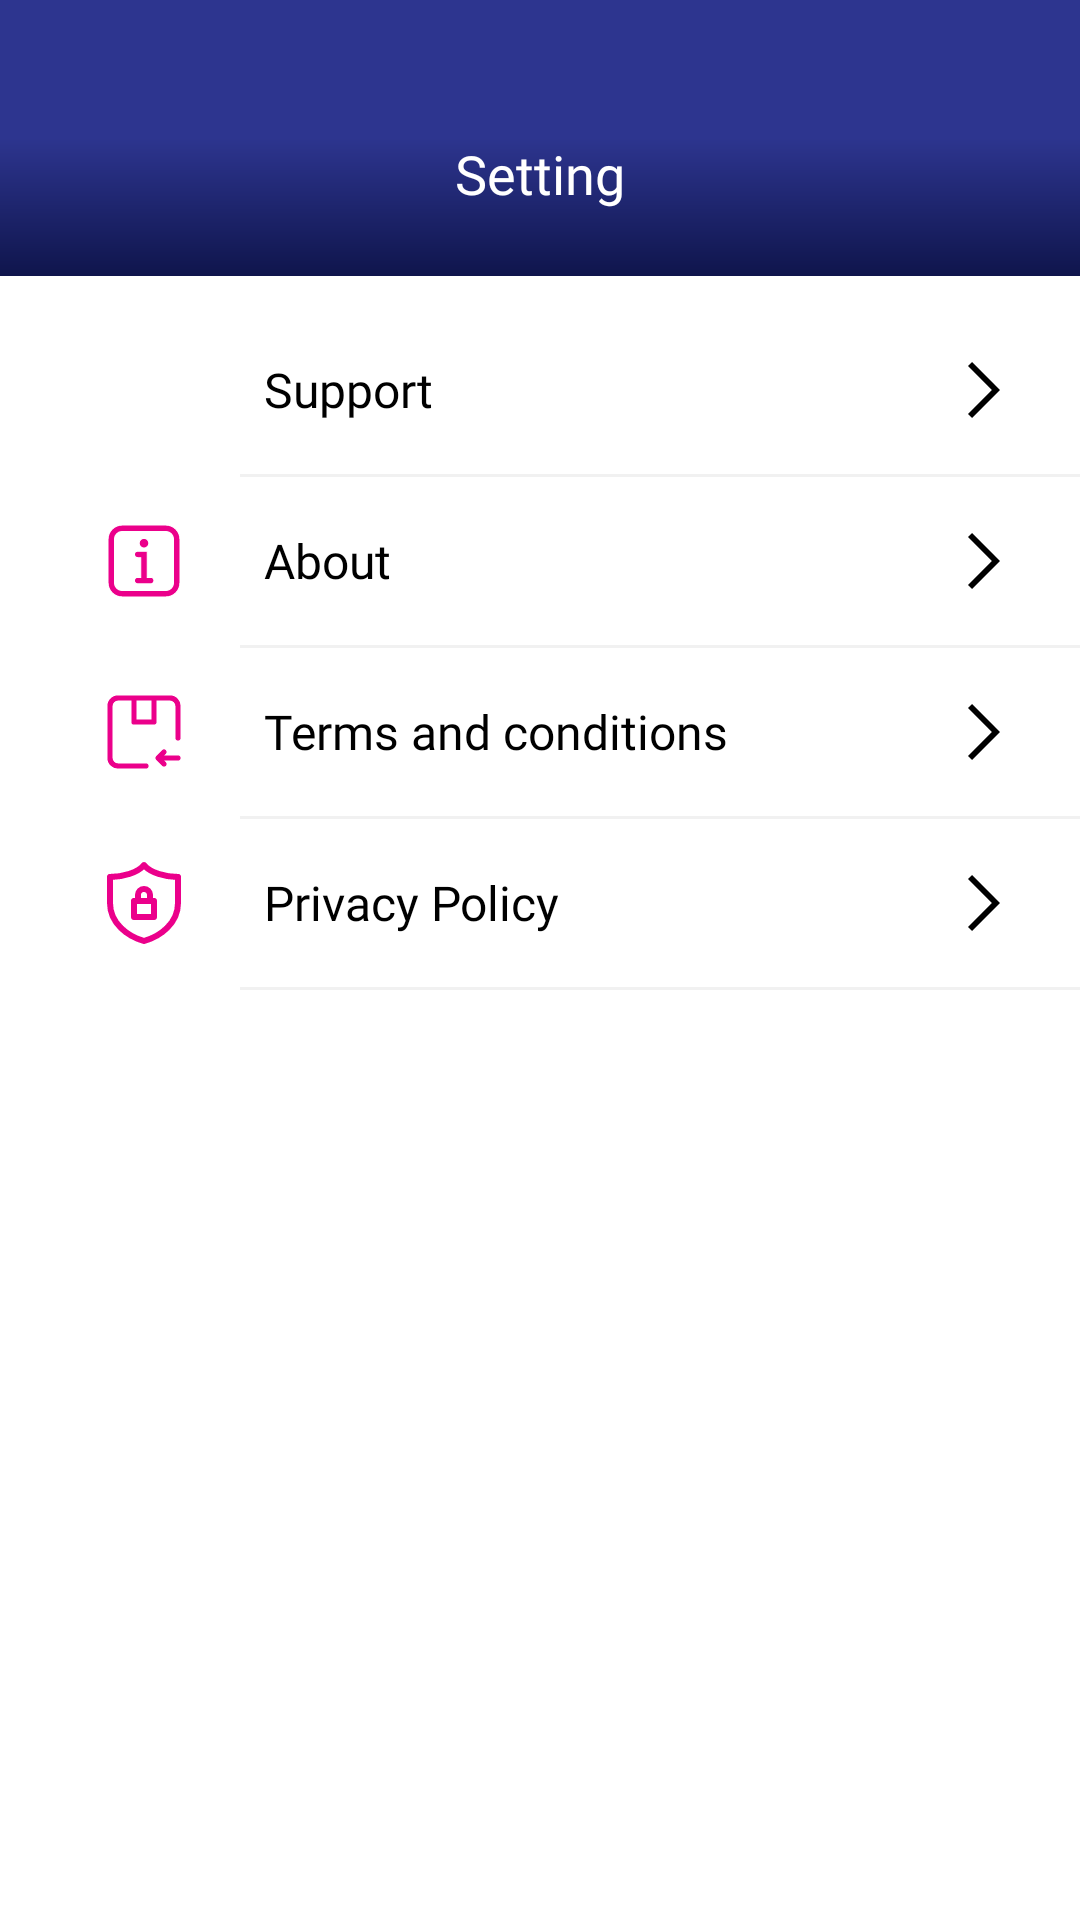

Where icons sit on this 1080 x 1920 app screen, as (x1, y1, x2, y2):
nextlist: (968, 362, 1000, 418), (968, 533, 1000, 589), (968, 704, 1000, 760), (968, 875, 1000, 931)
sales return: (107, 695, 181, 769)
